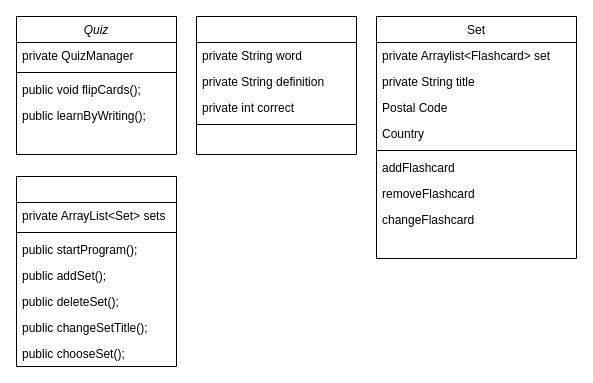
Some shapes in this 593 by 383 pixel diagram are drawn without their labels. The box of each missing label's shape, as (x1, y1, x2, y2) in pixels:
Flashcard: (196, 16, 356, 154)
QuizManager: (16, 176, 176, 366)
